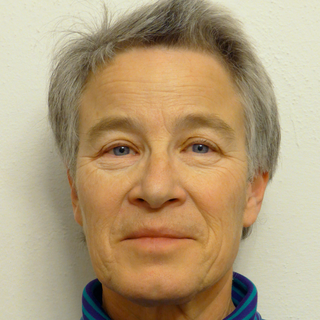eye: (88, 135, 144, 165), (174, 134, 228, 164)
